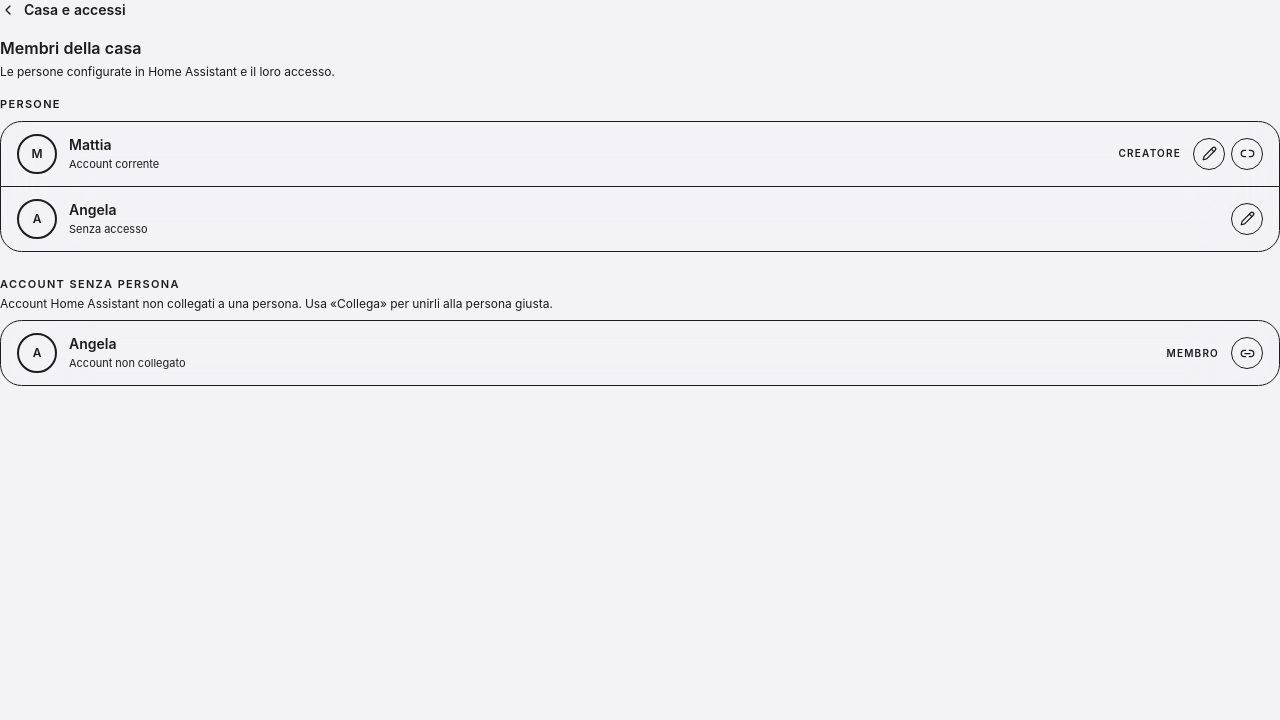
Test case: SettingsHouseAccessSection › renames a person and blocks names already used by someone else
Click the button named "Modifica persona: Angela" at point(1247, 218), box top-left (1231, 202), bottom-right (1263, 234)
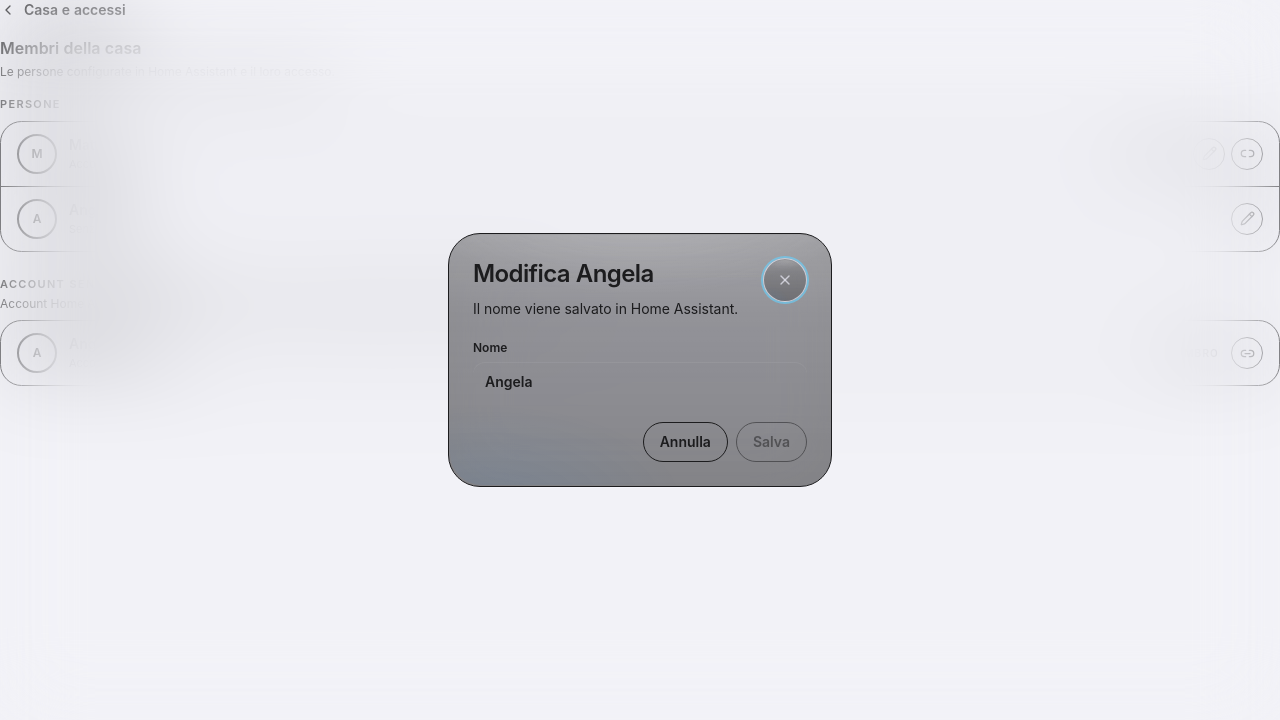
Expected: the heading "Modifica Angela" is shown, top-left (473, 259), bottom-right (654, 288)
Expected: the field labelled "Nome" holds "Angela"
Expected: the button "Salva" is disabled, top-left (736, 422), bottom-right (807, 462)
Replace the text in the field labelled "Nome" with "mattia" at point(640, 382), box top-left (473, 362), bottom-right (807, 402)
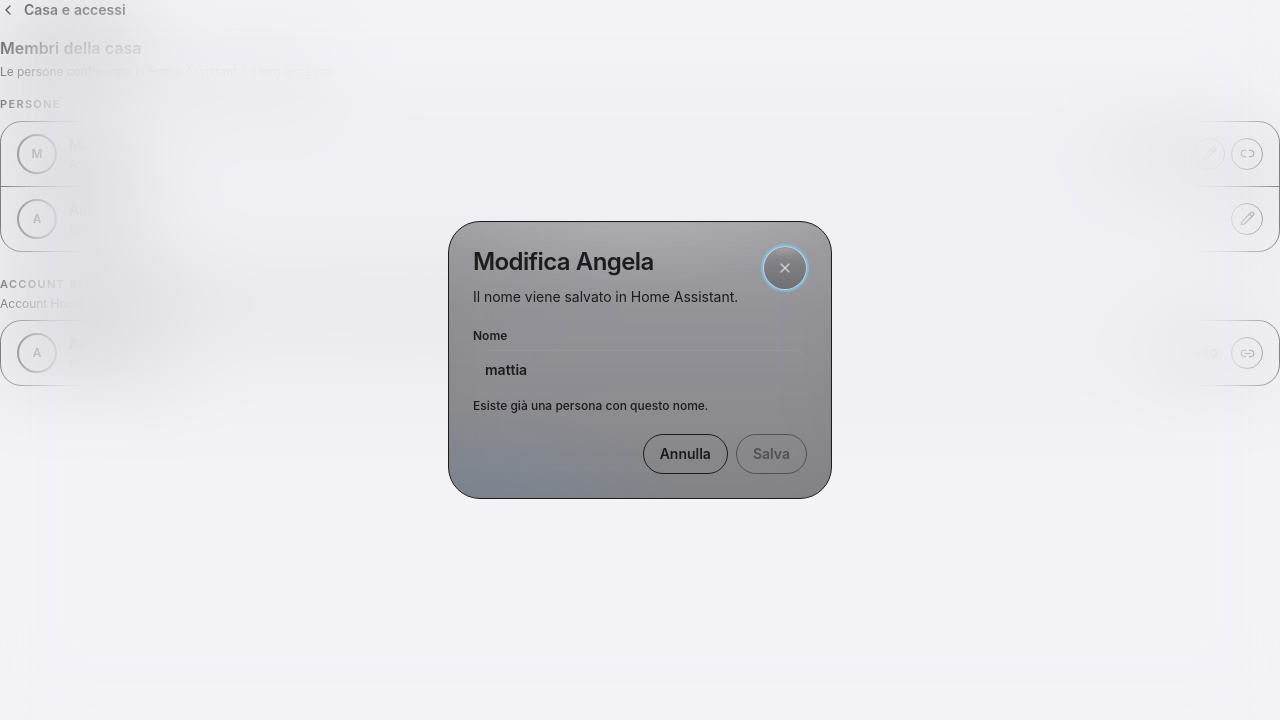
Expected: the button "Salva" is disabled, top-left (736, 434), bottom-right (807, 474)
Expected: the text "Esiste già una persona con questo nome." is shown, top-left (473, 398), bottom-right (708, 413)
Replace the text in the field labelled "Nome" with " Angela Rossi " at point(640, 370), box top-left (473, 350), bottom-right (807, 390)
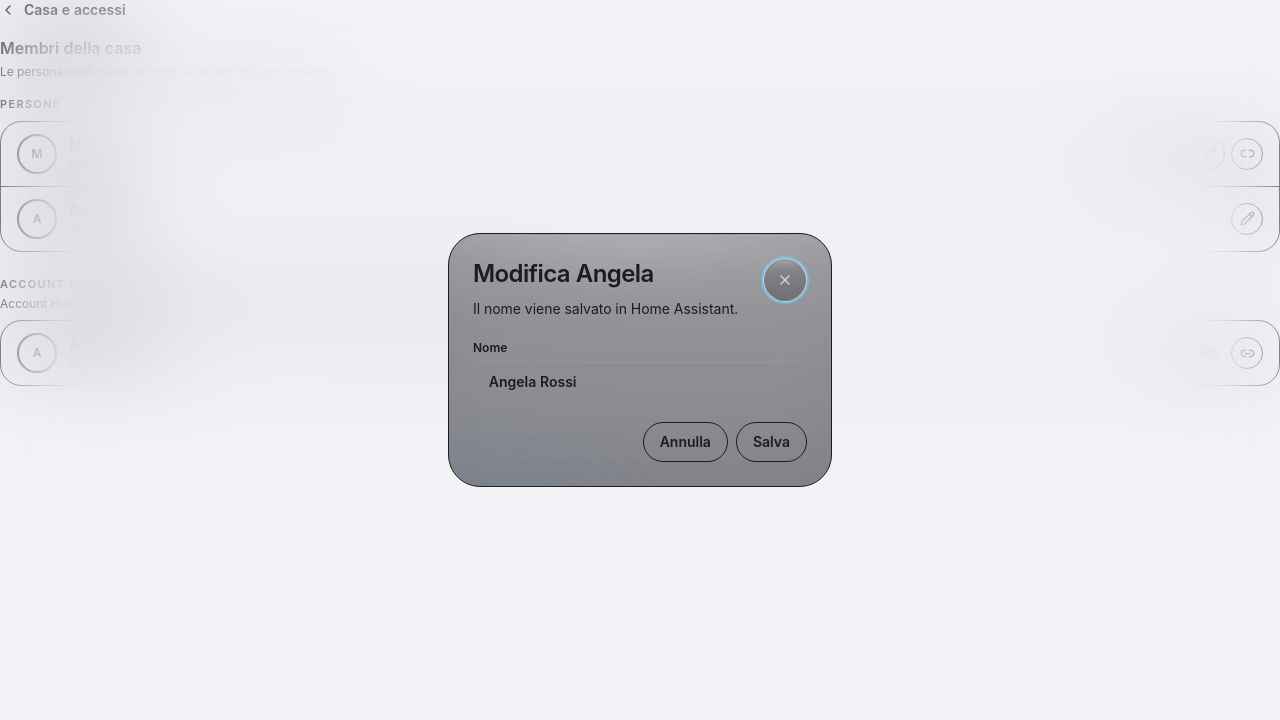
Click the button "Salva" at point(771, 442), box top-left (736, 422), bottom-right (807, 462)
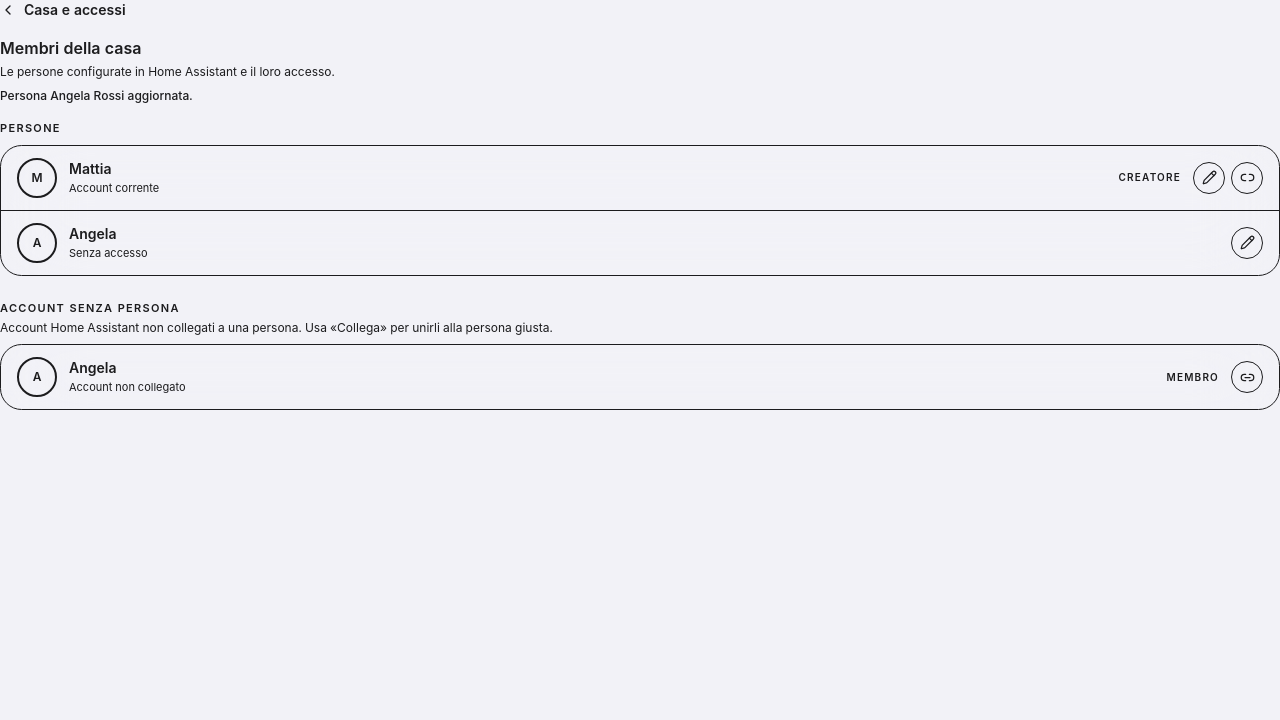
Expected: the text "Persona Angela Rossi aggiornata." is shown, top-left (0, 88), bottom-right (192, 103)
